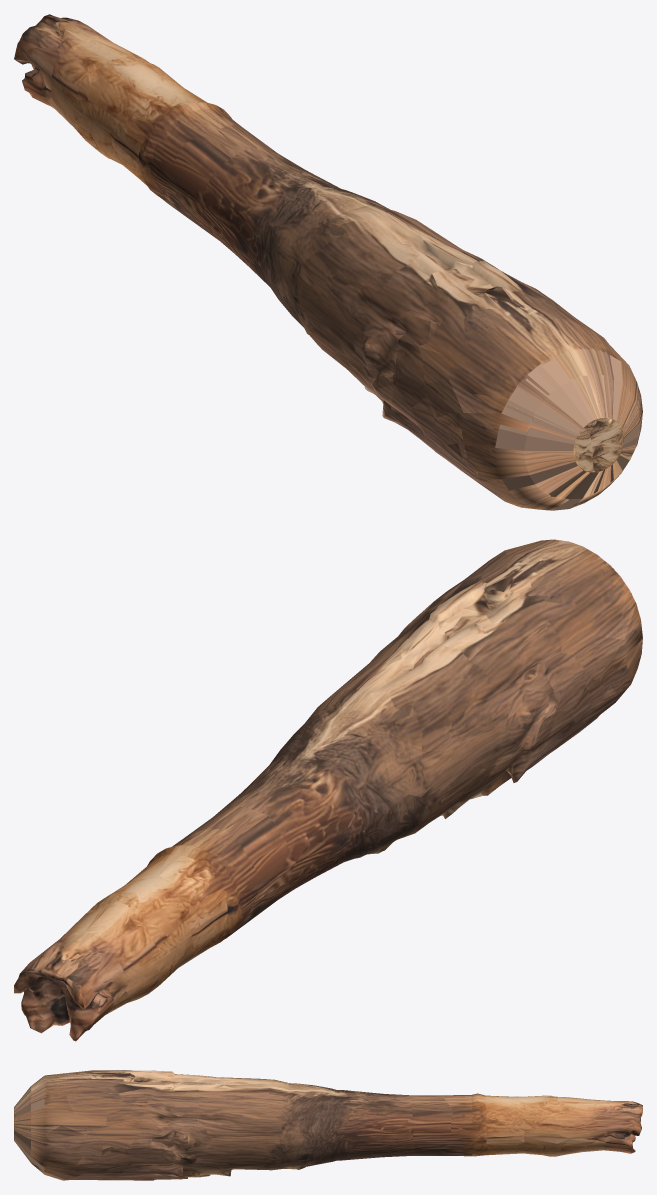
The model's file is club0.glb.
The picture shows the model from 3 angles, top to bottom: view 1: azimuth 30°, elevation 25°; view 2: azimuth 150°, elevation 25°; view 3: azimuth 270°, elevation 25°; orthographic projection. The views are drawn at different scales.
Visible parts, largest first — view 1: tripo_node_91f07525; view 2: tripo_node_91f07525; view 3: tripo_node_91f07525.
Part boxes in pixels (bbox=[...]): tripo_node_91f07525: bbox=[14, 14, 642, 510]; tripo_node_91f07525: bbox=[14, 539, 642, 1041]; tripo_node_91f07525: bbox=[14, 1070, 642, 1180].
Size of the model in its own units: 0.1491 by 0.1492 by 0.8463.
1 material, 1 textured.
